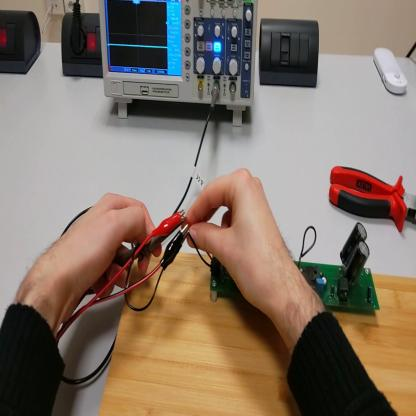hand: (32, 193, 154, 329), (186, 169, 291, 312)
high voltage board: (186, 221, 381, 312)
oscilloscope: (104, 1, 259, 129)
oscilloscope probe tip: (116, 217, 189, 273)
pliers: (330, 163, 416, 237)
socket: (61, 11, 106, 81), (1, 8, 42, 74)
working area: (100, 242, 416, 415)
